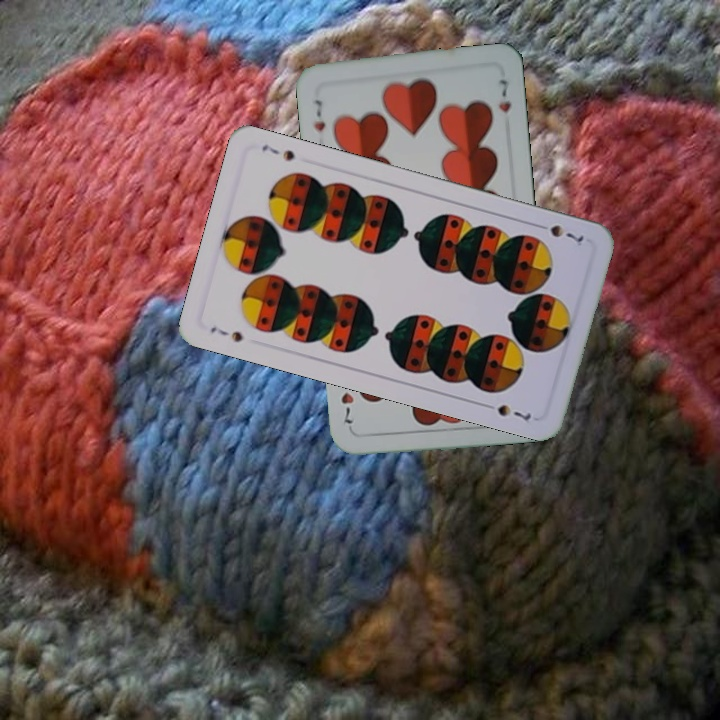H7: (310, 95, 328, 134)
S7: (531, 219, 587, 245), (206, 322, 246, 345)
